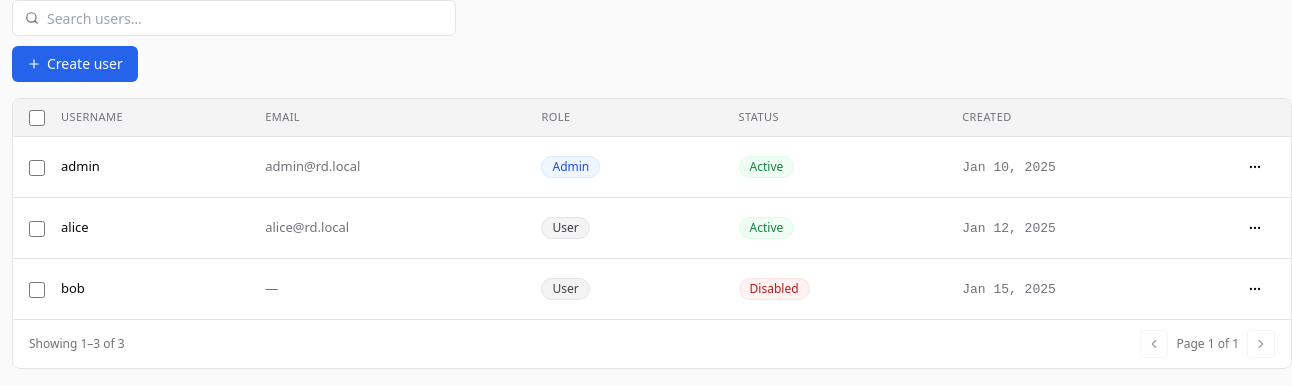
Test: <SettingsUsersTab /> › disables the Disable menu item for the logged-in admin themselves
Expected: the text "admin" is shown, [61,157,100,175]
Click the button named "actions for admin" at coordinates (1255, 167), box [1235,151,1275,183]
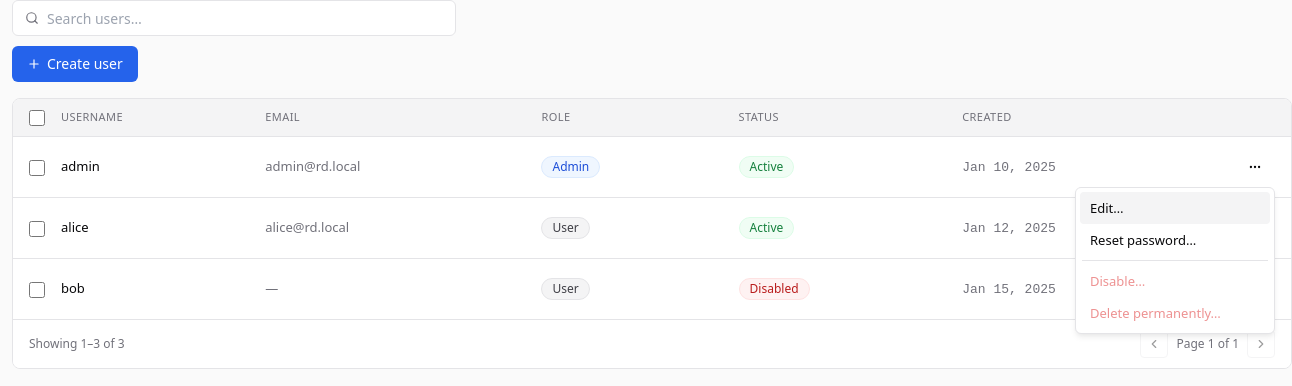
Expected: the menu item "Disable…" is disabled, [1080,265,1270,297]
